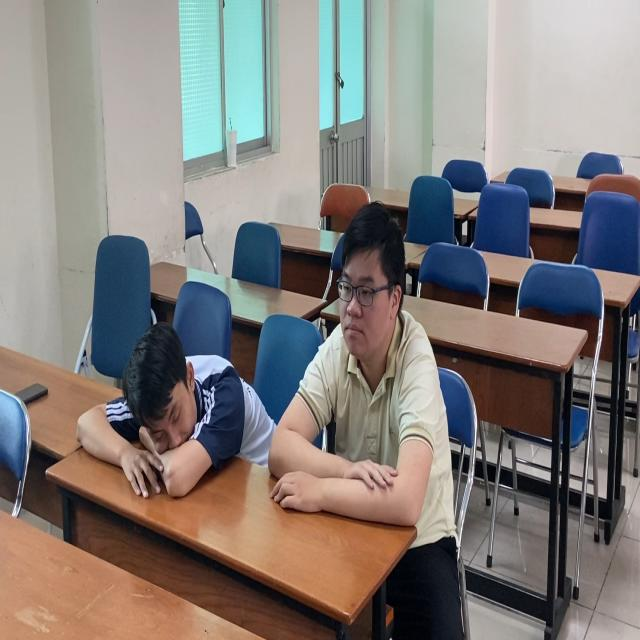sleep: (65, 326, 275, 499)
